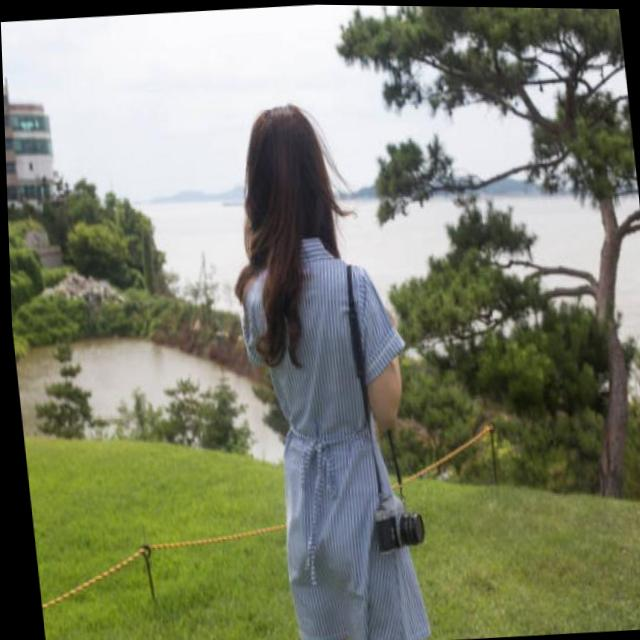no helmet: (234, 91, 335, 257)
